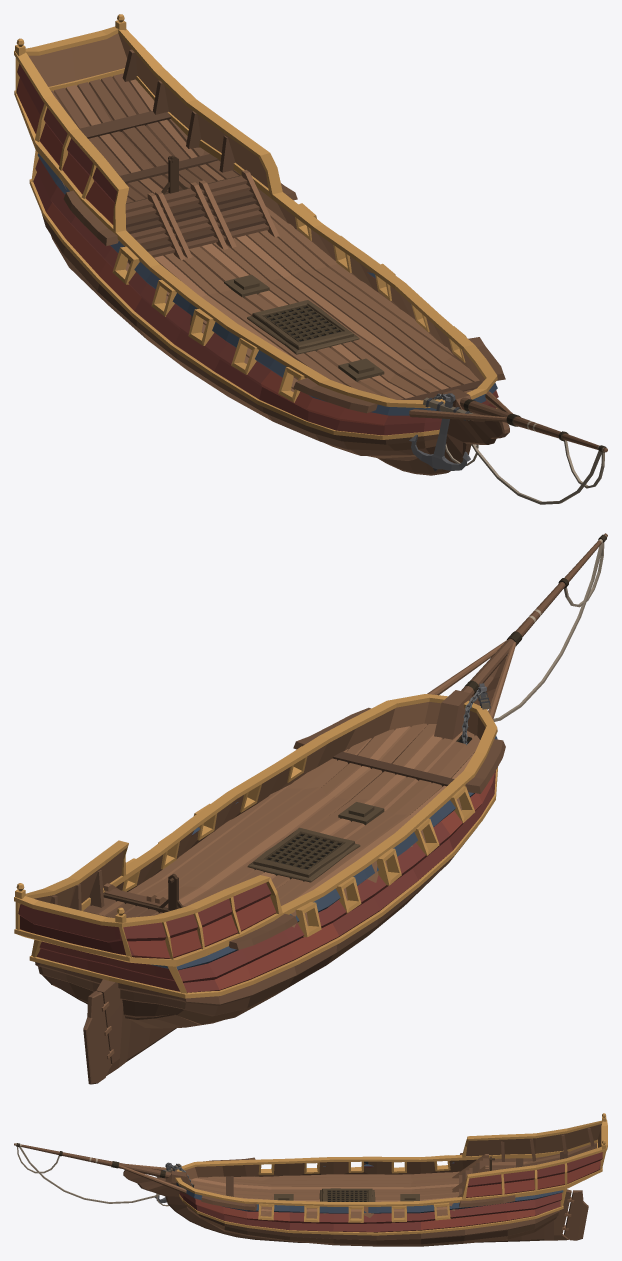
The model's file is SM_Veh_Veh_Boat_Large_01_Hull.glb.
3 renders of one model, top to bottom at view 1: azimuth 30°, elevation 25°; view 2: azimuth 150°, elevation 25°; view 3: azimuth 270°, elevation 25°, orthographic. The views are drawn at different scales.
Parts seen in each view (by area): view 1: SM_Veh_Veh_Boat_Large_01_Hull; view 2: SM_Veh_Veh_Boat_Large_01_Hull; view 3: SM_Veh_Veh_Boat_Large_01_Hull.
Boxes of the visible parts, x1,y1,x2,y2 form: SM_Veh_Veh_Boat_Large_01_Hull: (14,14,607,504); SM_Veh_Veh_Boat_Large_01_Hull: (14,533,607,1084); SM_Veh_Veh_Boat_Large_01_Hull: (14,1113,607,1246).
Size of what is drawn, in the model's own units: 0.0746 by 0.0711 by 0.3304.
Materials: 1 (1 with a texture image).
